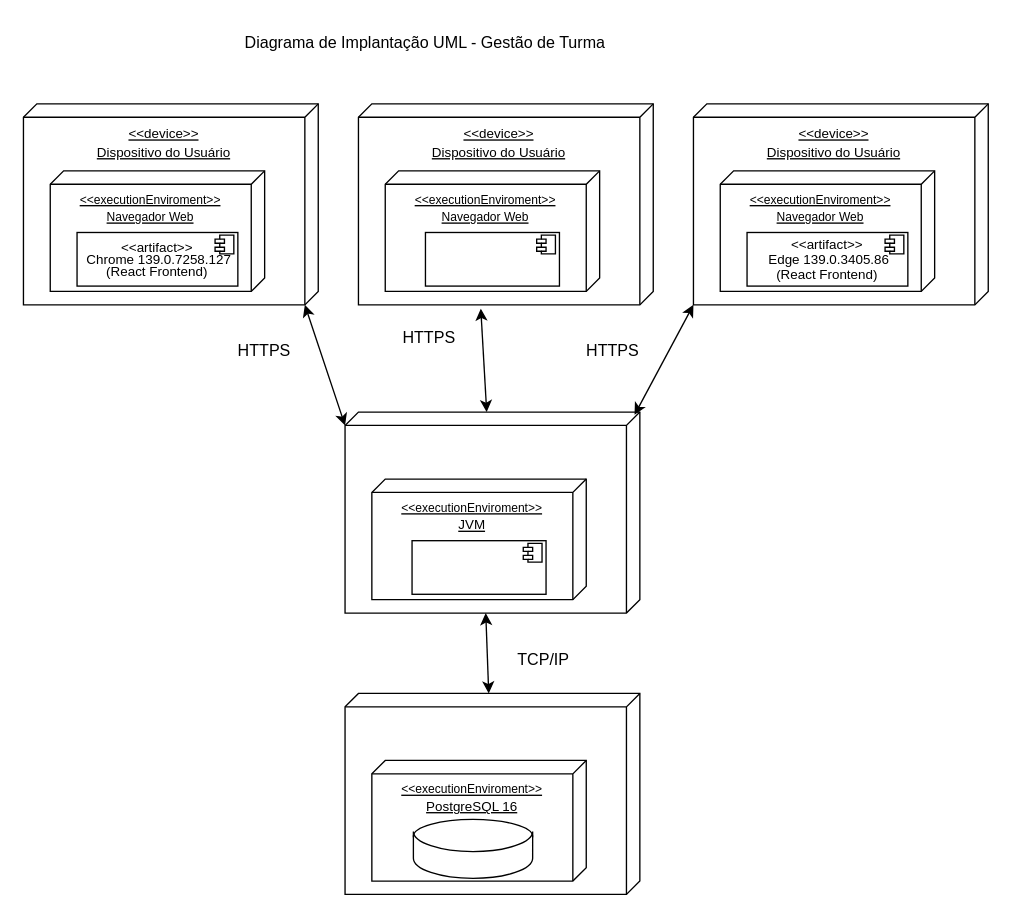
Some shapes in this 1012 by 918 pixel diagram are drawn without their labels. Here are the shapes that lost their labels. From the top down, the box of each, then its label:
(424, 231, 559, 286): <<artifact>> Firefox 141.0.3 (React Frontend)
(344, 411, 640, 613): <<device>> Servidor da Aplicação
(411, 539, 546, 594): <<artifact>> Gestao-Turmas (Spring Boot 4.0.6)
(344, 692, 640, 894): <<device>> Servidor de Banco de Dados
(412, 830, 533, 878): Gestão-Turmas_db
